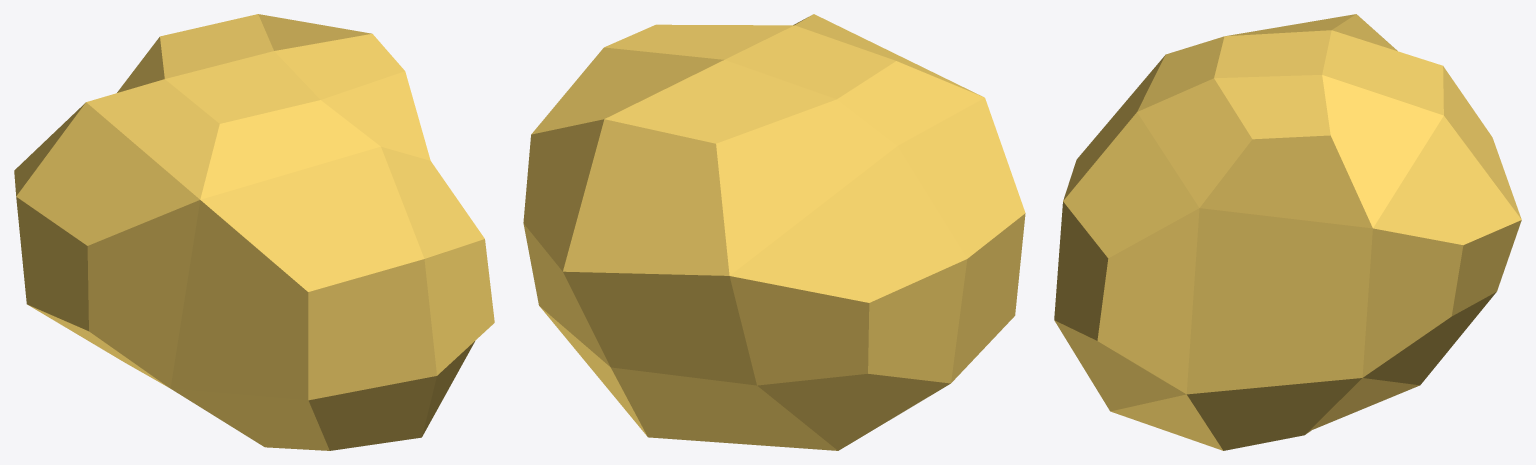
File: Wustensteine4.fbx
3 renders of one model, left to right at view 1: azimuth 30°, elevation 25°; view 2: azimuth 150°, elevation 25°; view 3: azimuth 270°, elevation 25°, orthographic. The views are drawn at different scales.
Parts seen in each view (by area): view 1: Wüstenstein4; view 2: Wüstenstein4; view 3: Wüstenstein4.
Boxes of the visible parts, x1,y1,x2,y2 form: Wüstenstein4: (14, 14, 494, 450); Wüstenstein4: (523, 14, 1025, 450); Wüstenstein4: (1054, 14, 1521, 450).
Bounding box in the file's own units: 21.06 × 18.51 × 22.31.
